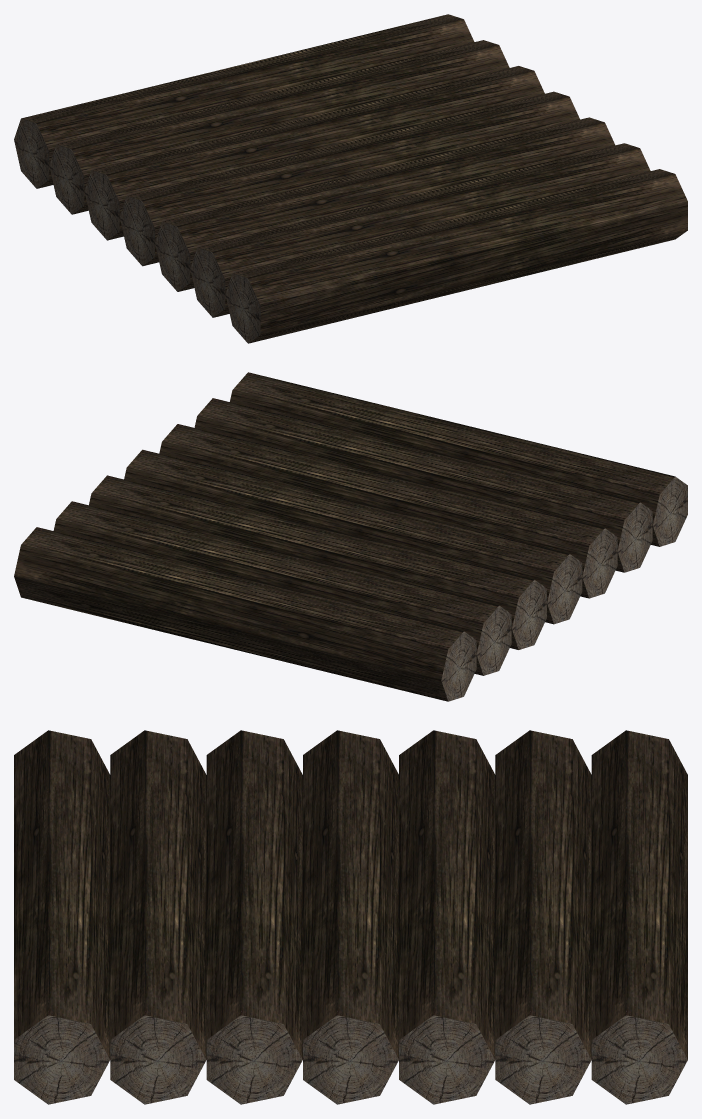
The model's file is Raft.fbx.
3 views of the same model, one above another, from view 1: azimuth 30°, elevation 25°; view 2: azimuth 150°, elevation 25°; view 3: azimuth 270°, elevation 25° (orthographic). The views are drawn at different scales.
Visible parts, largest first — view 1: Cylinder; view 2: Cylinder; view 3: Cylinder.
Boxes of the visible parts, x1=… form: Cylinder: x1=14, y1=14, x2=687, y2=343; Cylinder: x1=14, y1=372, x2=687, y2=701; Cylinder: x1=14, y1=730, x2=687, y2=1104.
Size of the model in its own units: 321 by 47.03 by 321.
